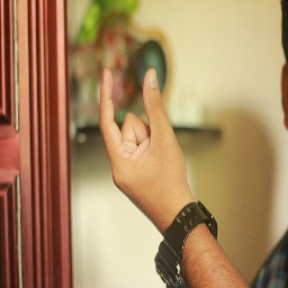U: (86, 59, 192, 192)
